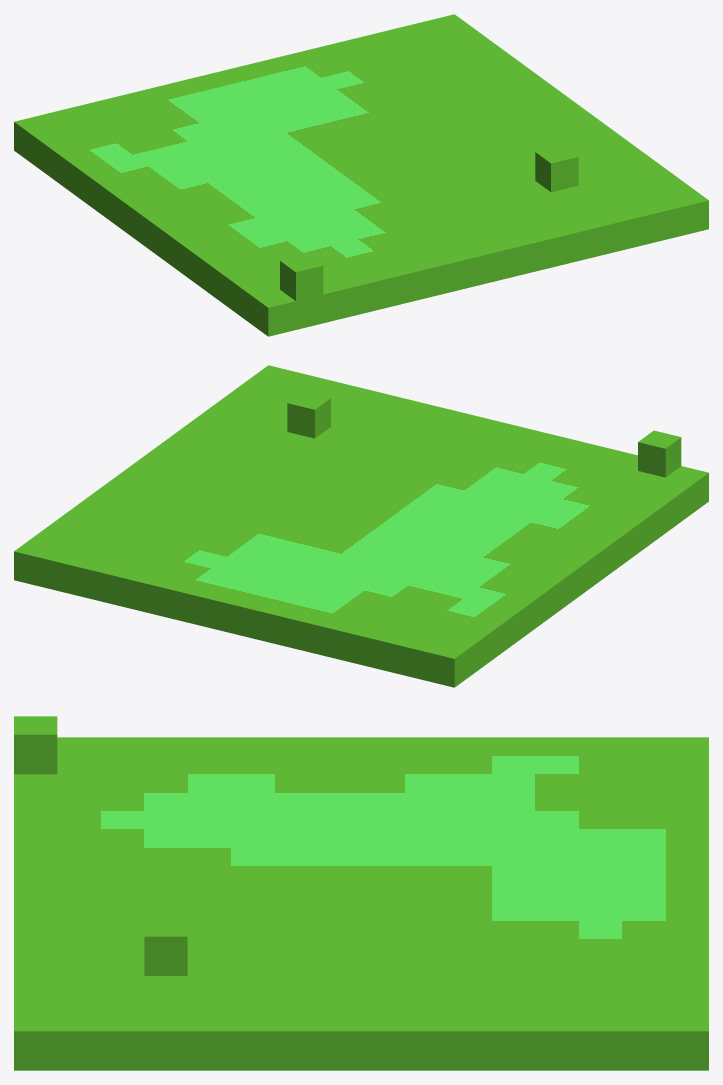
The model's file is env_grass2d.fbx.
3 views of the same model, one above another, from view 1: azimuth 30°, elevation 25°; view 2: azimuth 150°, elevation 25°; view 3: azimuth 270°, elevation 25° (orthographic). The views are drawn at different scales.
Parts seen in each view (by area): view 1: env_grass2d; view 2: env_grass2d; view 3: env_grass2d.
Part boxes in pixels (<box>): env_grass2d: <box>14,14,708,336</box>; env_grass2d: <box>14,365,708,687</box>; env_grass2d: <box>14,716,708,1070</box>.
Size of the model in its own units: 1.6 by 1.6 by 0.2.
1 material, 1 textured.
